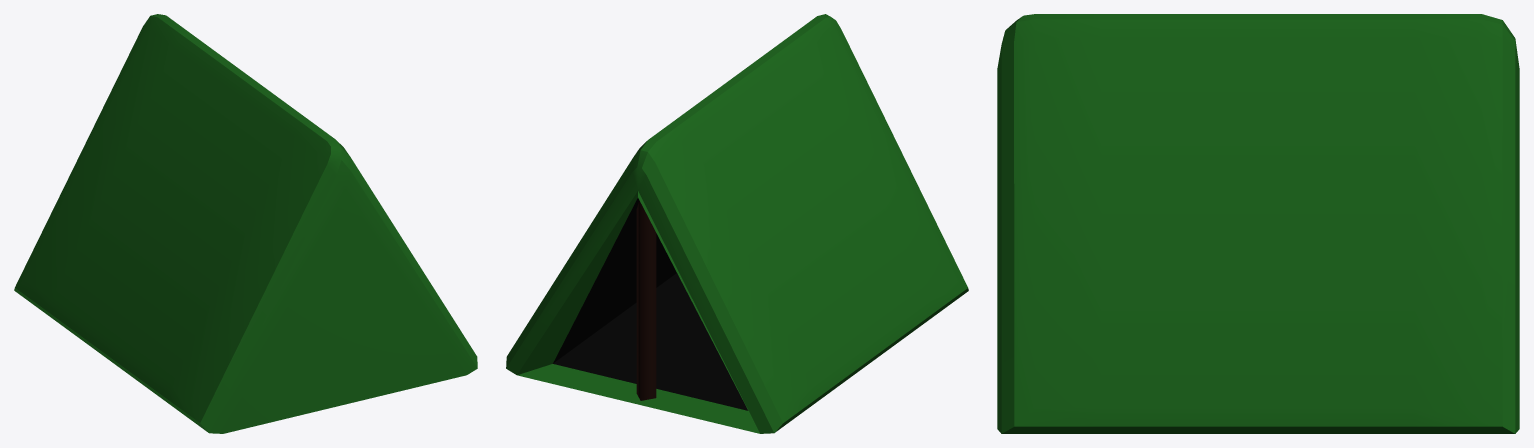
The model's file is Tent #1.FBX.
3 renders of one model, left to right at view 1: azimuth 30°, elevation 25°; view 2: azimuth 150°, elevation 25°; view 3: azimuth 270°, elevation 25°, orthographic. The views are drawn at different scales.
Visible parts, largest first — view 1: Tent #1; view 2: Tent #1; view 3: Tent #1.
Boxes of the visible parts, x1=… form: Tent #1: x1=14, y1=14, x2=477, y2=433; Tent #1: x1=506, y1=14, x2=968, y2=433; Tent #1: x1=997, y1=14, x2=1519, y2=433.
Size of the model in its own units: 85.73 by 75.21 by 106.
